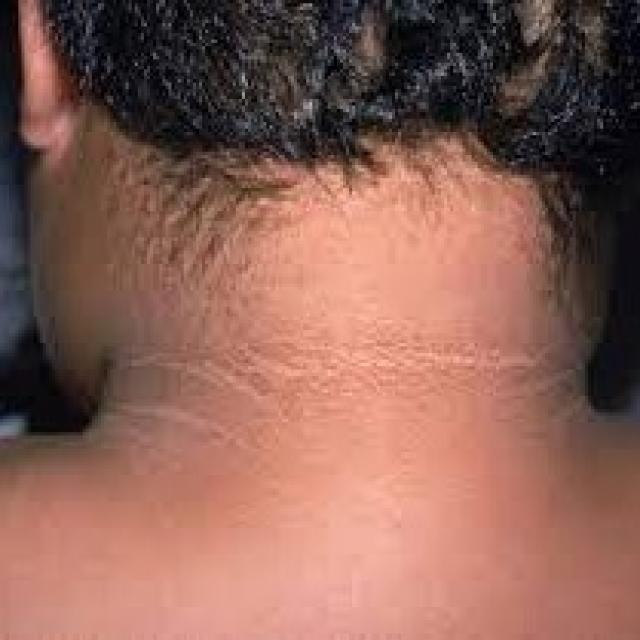Acanthosis Nigricans: (124, 318, 599, 503)
